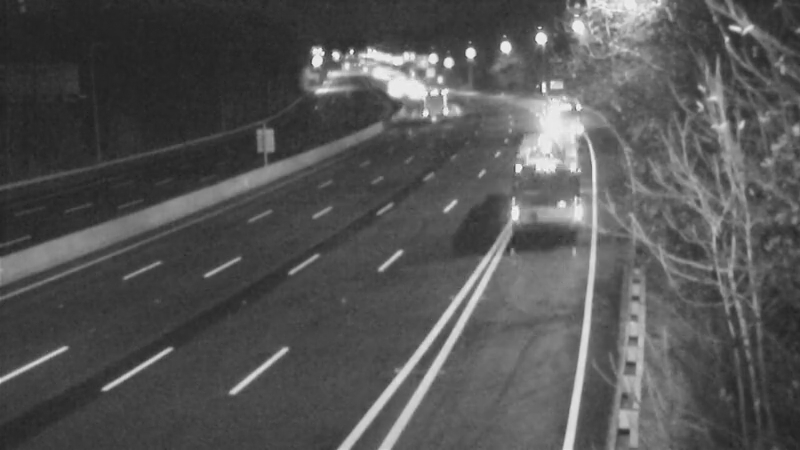vehicle: (505, 126, 585, 206), (417, 69, 467, 119), (532, 90, 582, 140), (402, 76, 452, 126)
